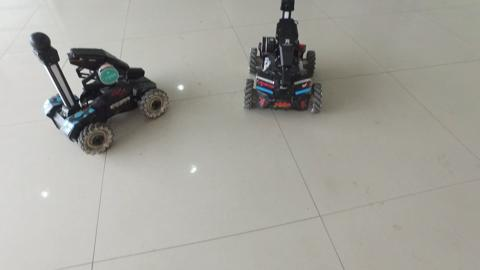chariot: (26, 29, 168, 153)
